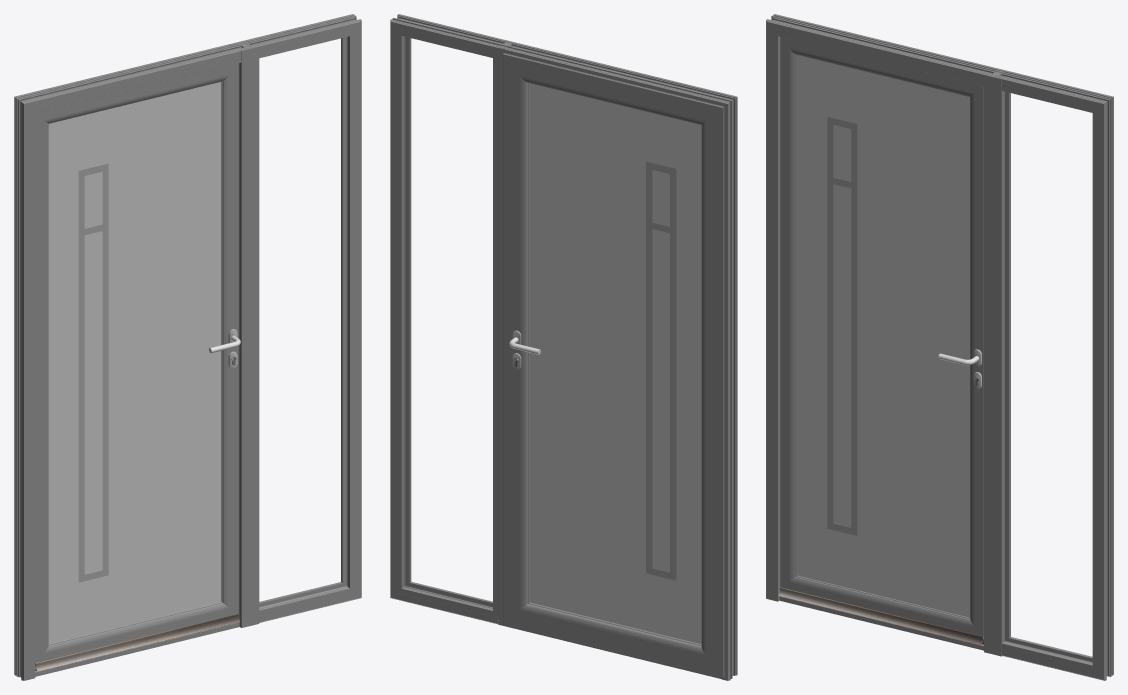
3 views of the same model, side by side, from view 1: azimuth 30°, elevation 25°; view 2: azimuth 150°, elevation 25°; view 3: azimuth 330°, elevation 25° (orthographic).
Visible parts, largest first — view 1: fosco_30, aroFixo, aroMovel, montanteCentral, transparente_30, bite, borracha, escovas, rodaPe; view 2: fosco_30, aroMovel, aroFixo, bite, transparente_30, montanteCentral, borracha, rodaPe; view 3: fosco_30, aroFixo, aroMovel, montanteCentral, transparente_30, bite, escovas, borracha, rodaPe.
Boxes of the visible parts, x1,y1,x2,y2 form: fosco_30: (48,82,221,643); aroFixo: (14,14,361,680); aroMovel: (35,63,238,663); montanteCentral: (238,42,259,627); transparente_30: (78,164,108,582); bite: (259,37,346,607); borracha: (259,37,345,606); escovas: (35,614,240,671); rodaPe: (35,622,239,676); fosco_30: (529,83,701,644); aroMovel: (503,53,724,677); aroFixo: (390,14,737,680); bite: (396,29,498,617); transparente_30: (646,161,676,580); montanteCentral: (498,40,518,626); borracha: (404,36,492,608); rodaPe: (505,624,721,679); fosco_30: (797,55,969,617); aroFixo: (766,14,1113,680); aroMovel: (780,37,983,638); montanteCentral: (984,70,1004,656); transparente_30: (827,117,857,535); bite: (1005,91,1092,661); escovas: (778,587,983,645); borracha: (1006,92,1092,660); rodaPe: (779,596,983,650).
Bounding box in the file's own units: 1320 × 2149 × 185.
Materials: 10 (4 with a texture image).
